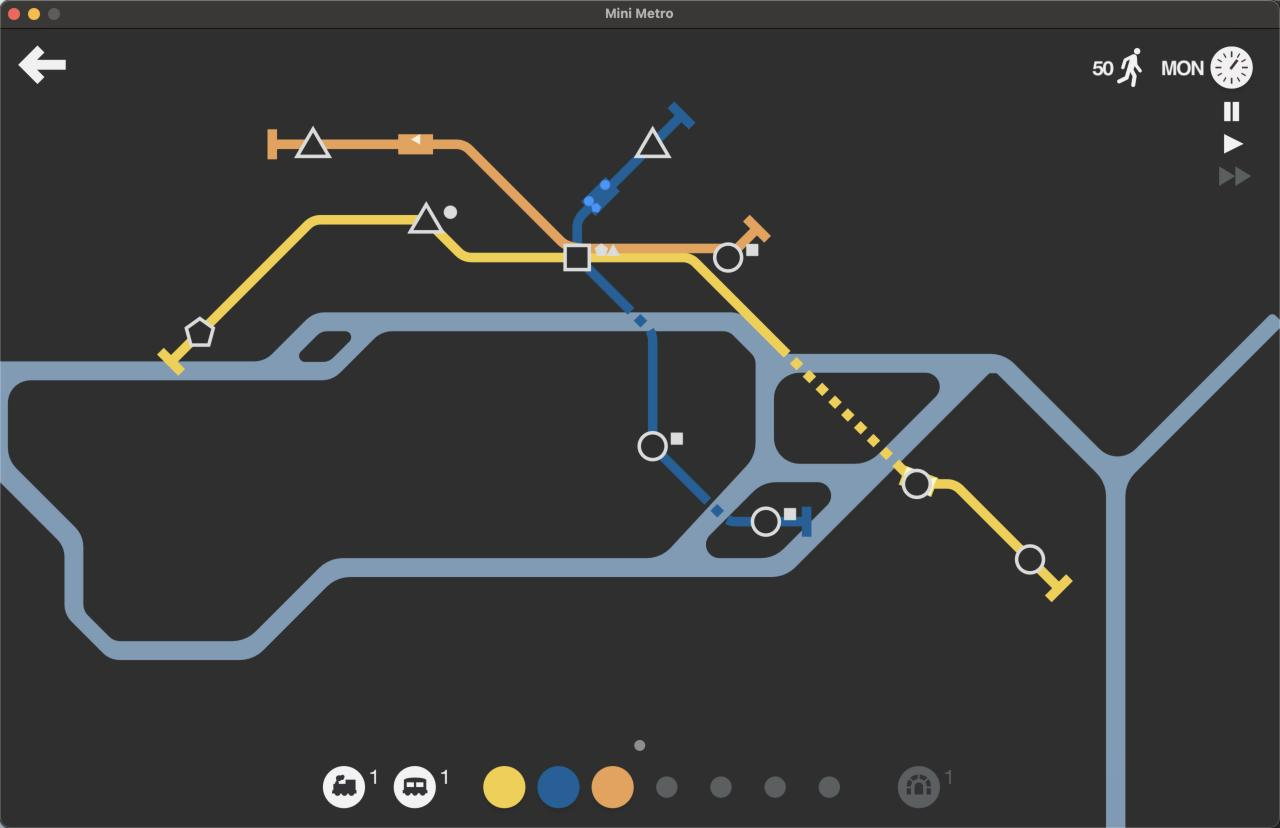CIRCLE: (900, 466, 935, 500), (636, 430, 669, 463), (1014, 543, 1046, 575), (712, 241, 743, 273), (750, 506, 781, 537)
PENTAGON: (184, 316, 216, 348)
SQUARE: (562, 242, 592, 272)
TRIANGLE: (293, 125, 333, 159), (406, 201, 446, 235), (635, 125, 672, 160)
